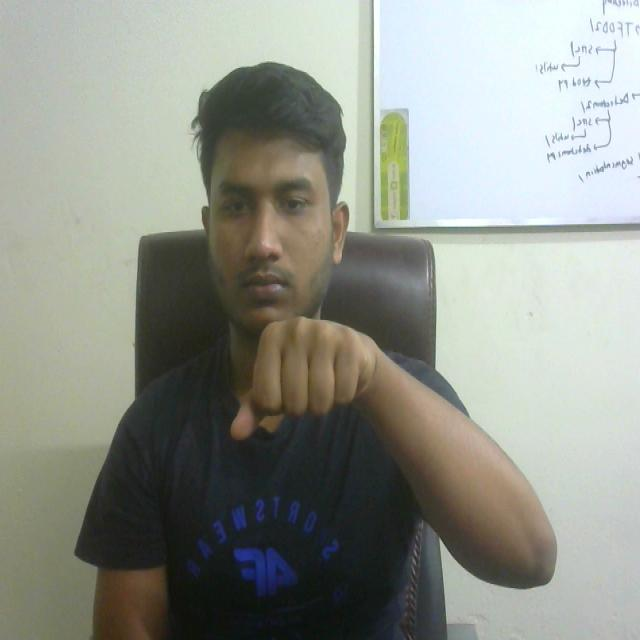I: (226, 304, 394, 460)
